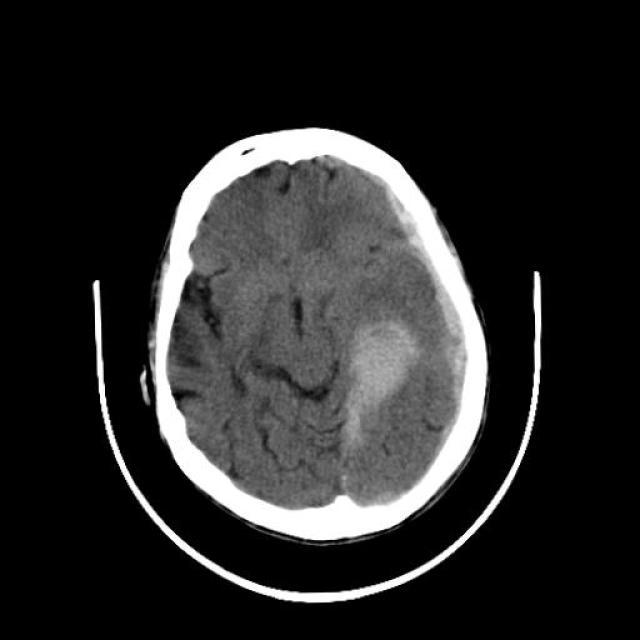Intraparenchymal: (318, 316, 432, 460)
Subdural: (380, 141, 494, 461)
